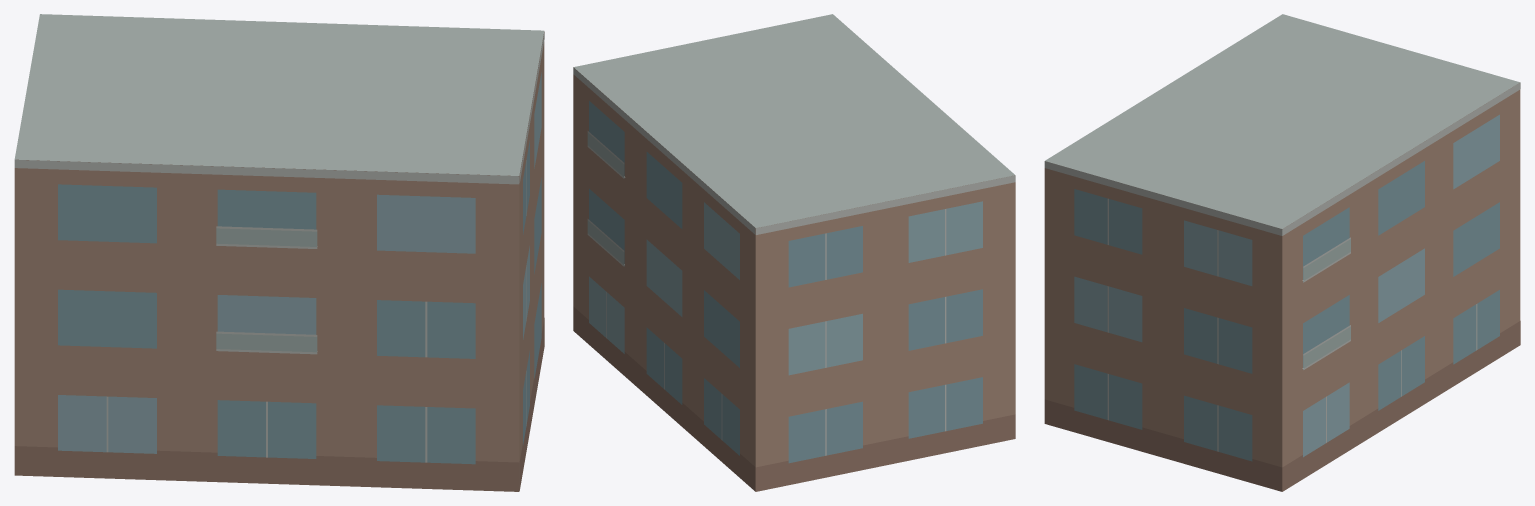
Rendered from survey-upis-32707475.glb.
3 renders of one model, left to right at view 1: azimuth 30°, elevation 25°; view 2: azimuth 150°, elevation 25°; view 3: azimuth 270°, elevation 25°, orthographic. The views are drawn at different scales.
Visible parts, largest first — view 1: survey-upis-32707475.tmp; view 2: survey-upis-32707475.tmp; view 3: survey-upis-32707475.tmp.
Boxes of the visible parts, left/top/right/bottom form: survey-upis-32707475.tmp: left=14, top=14, right=544, bottom=491; survey-upis-32707475.tmp: left=573, top=14, right=1015, bottom=491; survey-upis-32707475.tmp: left=1044, top=14, right=1520, bottom=491.
Size of the model in its own units: 16.07 by 9.15 by 15.02.
